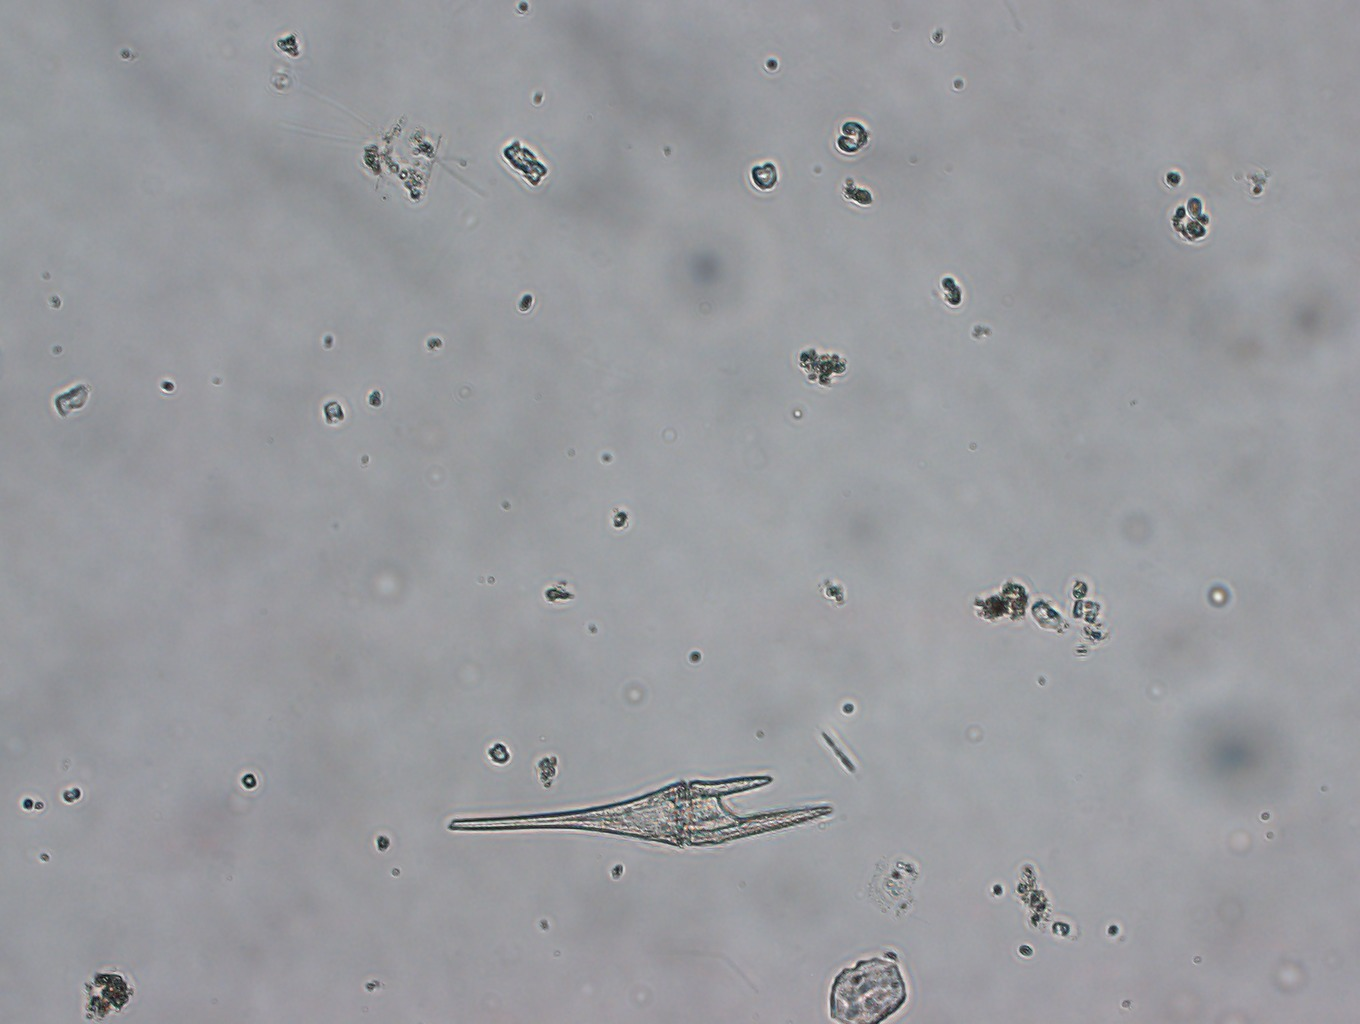ceratium furca: (445, 749, 838, 857)
